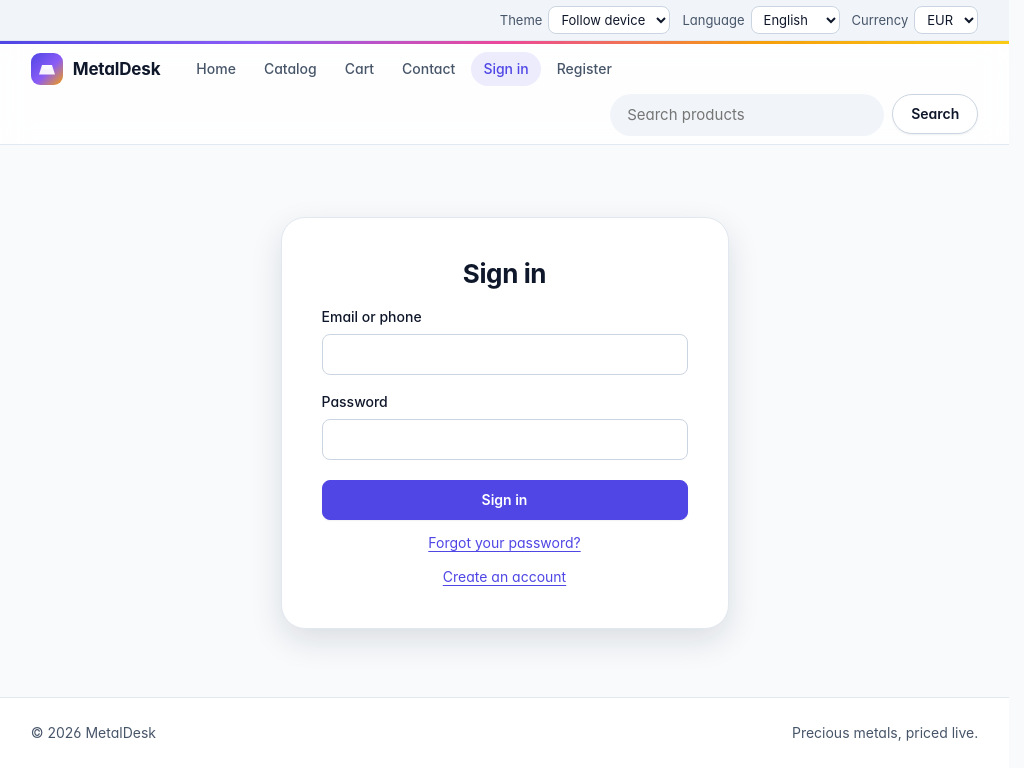
sign in › says to wait when throttled, without saying anything about the account
The image size is (1024, 768).
In the field labelled "Email or phone": (504, 355) [322, 334, 688, 375], type "ada@example.test"
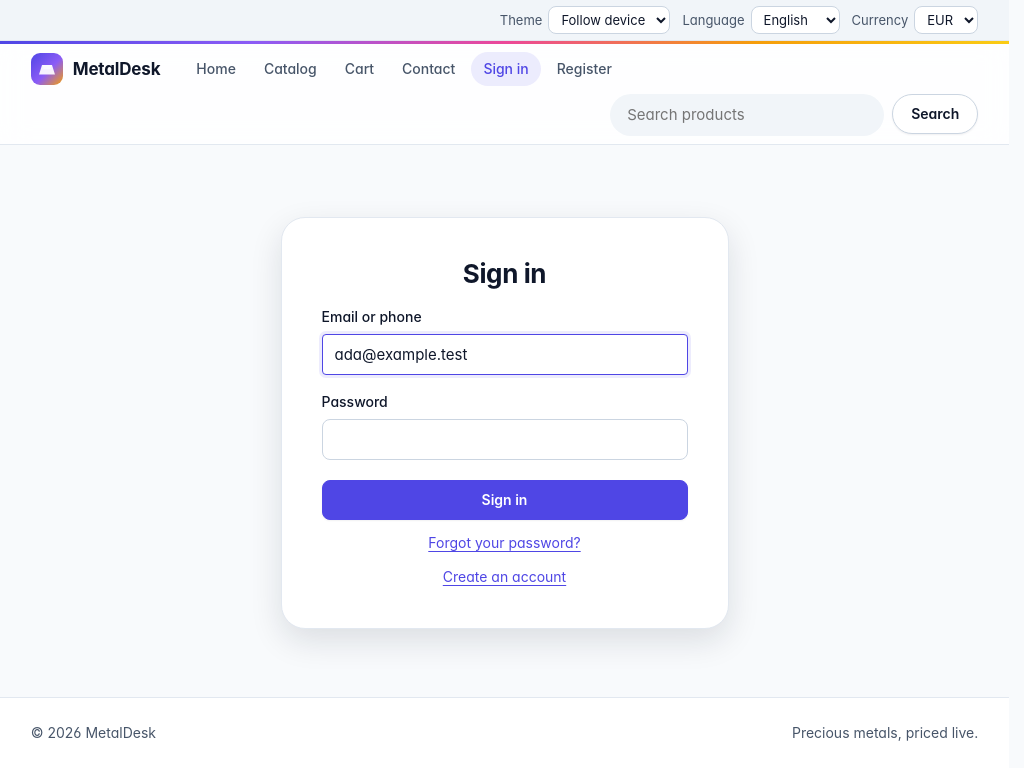
In the password field labelled "Password": (504, 440) [322, 419, 688, 460], type "wrong-1"
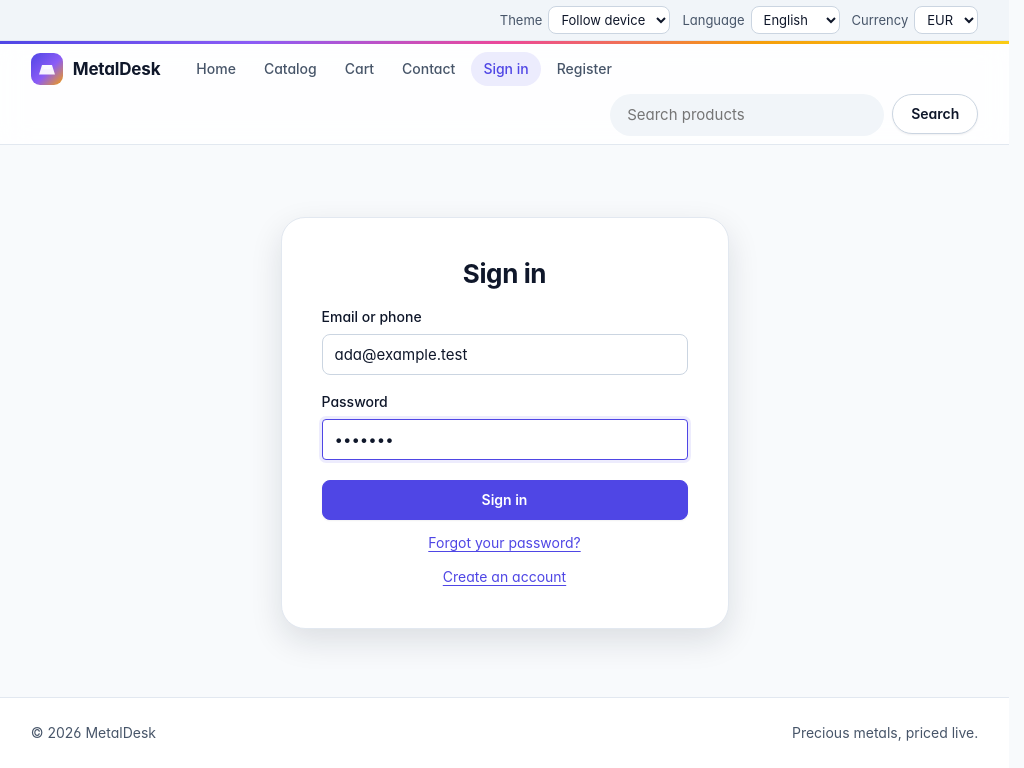
Click the button "Sign in": click(504, 500) [322, 480, 688, 520]
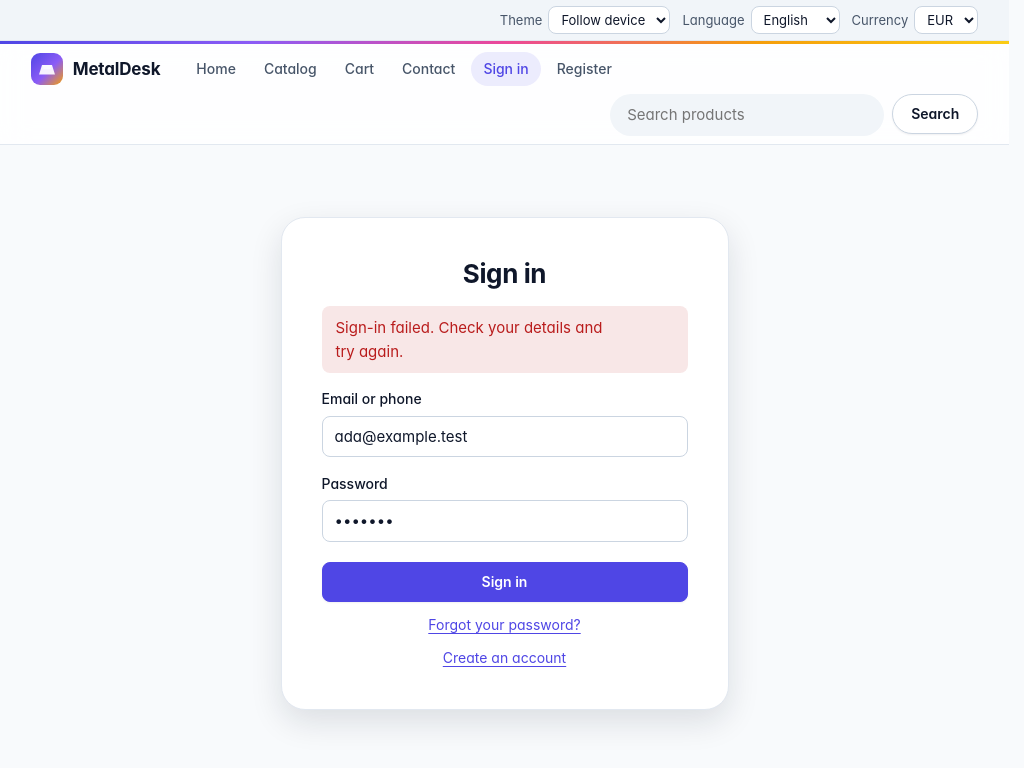
Check: the message "Sign-in failed. Check your details and try again." is shown, box [322, 306, 688, 373]
Click the button "Sign in": click(504, 582) [322, 562, 688, 602]
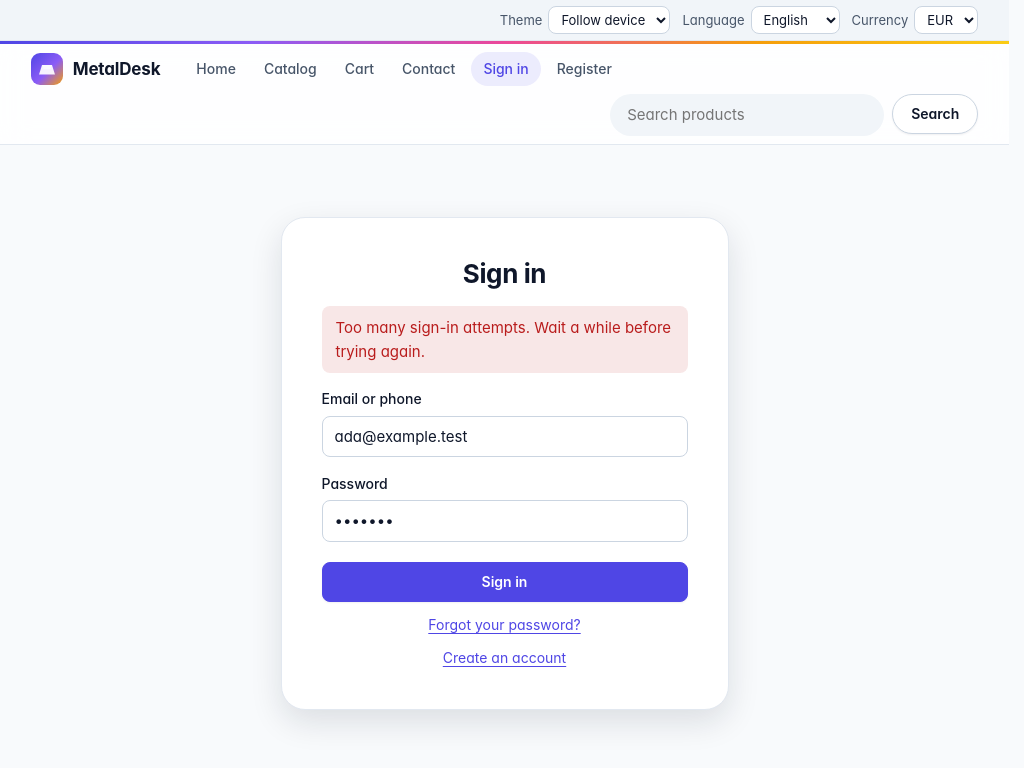
Check: the message does not show "ada@example.test", box [322, 306, 688, 373]
Check: the message shows "Wait a while before trying again", box [336, 318, 671, 361]
